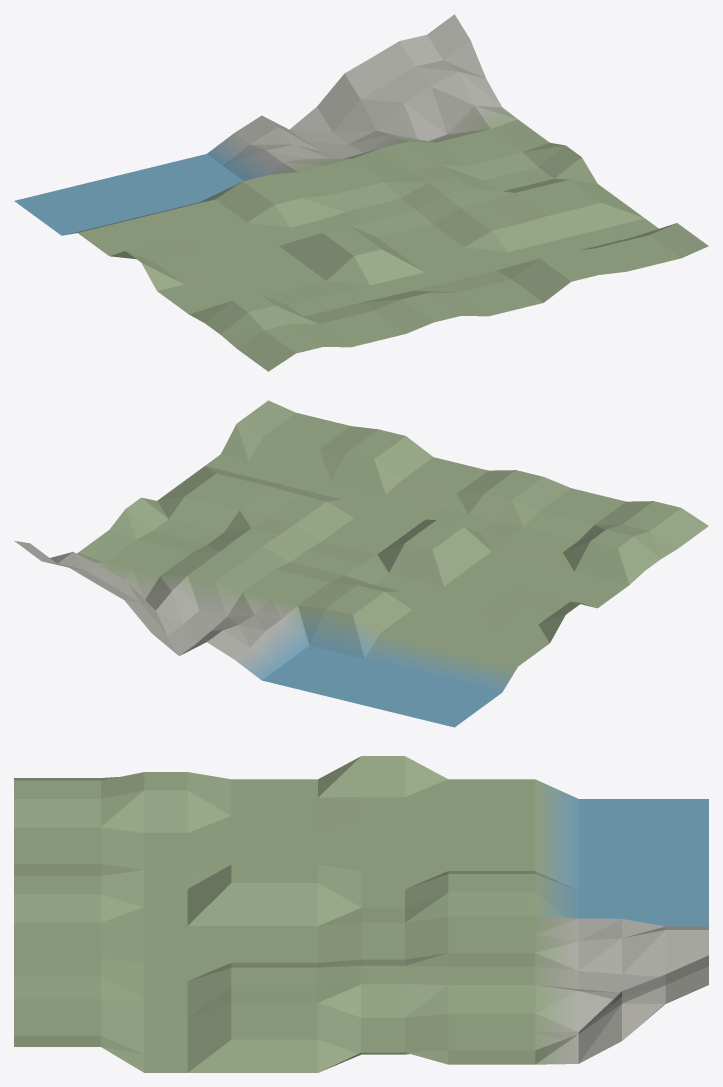
3 renders of one model, top to bottom at view 1: azimuth 30°, elevation 25°; view 2: azimuth 150°, elevation 25°; view 3: azimuth 270°, elevation 25°, orthographic. The views are drawn at different scales.
Bounding box in the file's own units: 32 × 5.5 × 32.
